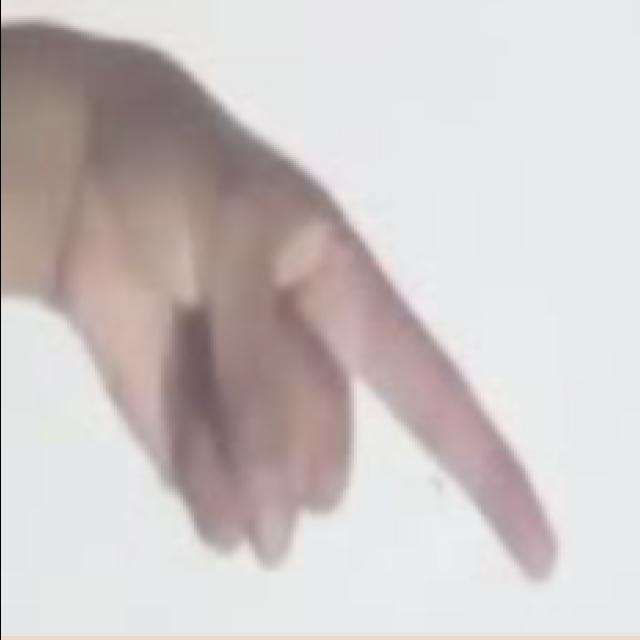Z: (62, 59, 581, 586)
